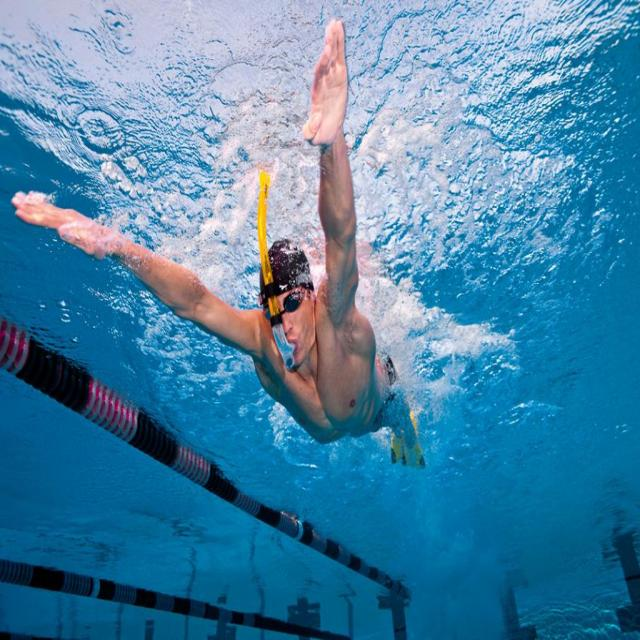nomask: (262, 276, 310, 364)
